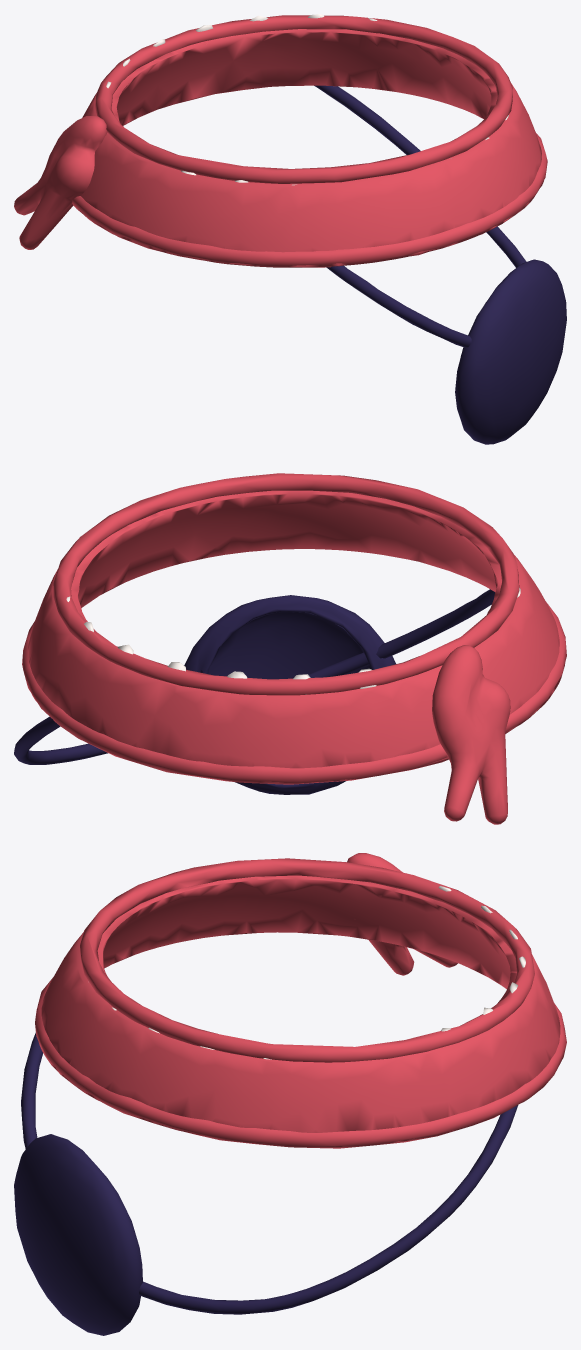
File: face-pirate.glb
The picture shows the model from 3 angles, top to bottom: view 1: azimuth 30°, elevation 25°; view 2: azimuth 150°, elevation 25°; view 3: azimuth 270°, elevation 25°; orthographic projection. The views are drawn at different scales.
Parts seen in each view (by area): view 1: face-pirate; view 2: face-pirate; view 3: face-pirate.
Boxes of the visible parts, left/top/right/bottom form: face-pirate: left=14, top=14, right=566, bottom=444; face-pirate: left=14, top=473, right=566, bottom=824; face-pirate: left=14, top=853, right=566, bottom=1335.
Size of the model in its own units: 0.9066 by 0.5759 by 0.875.
